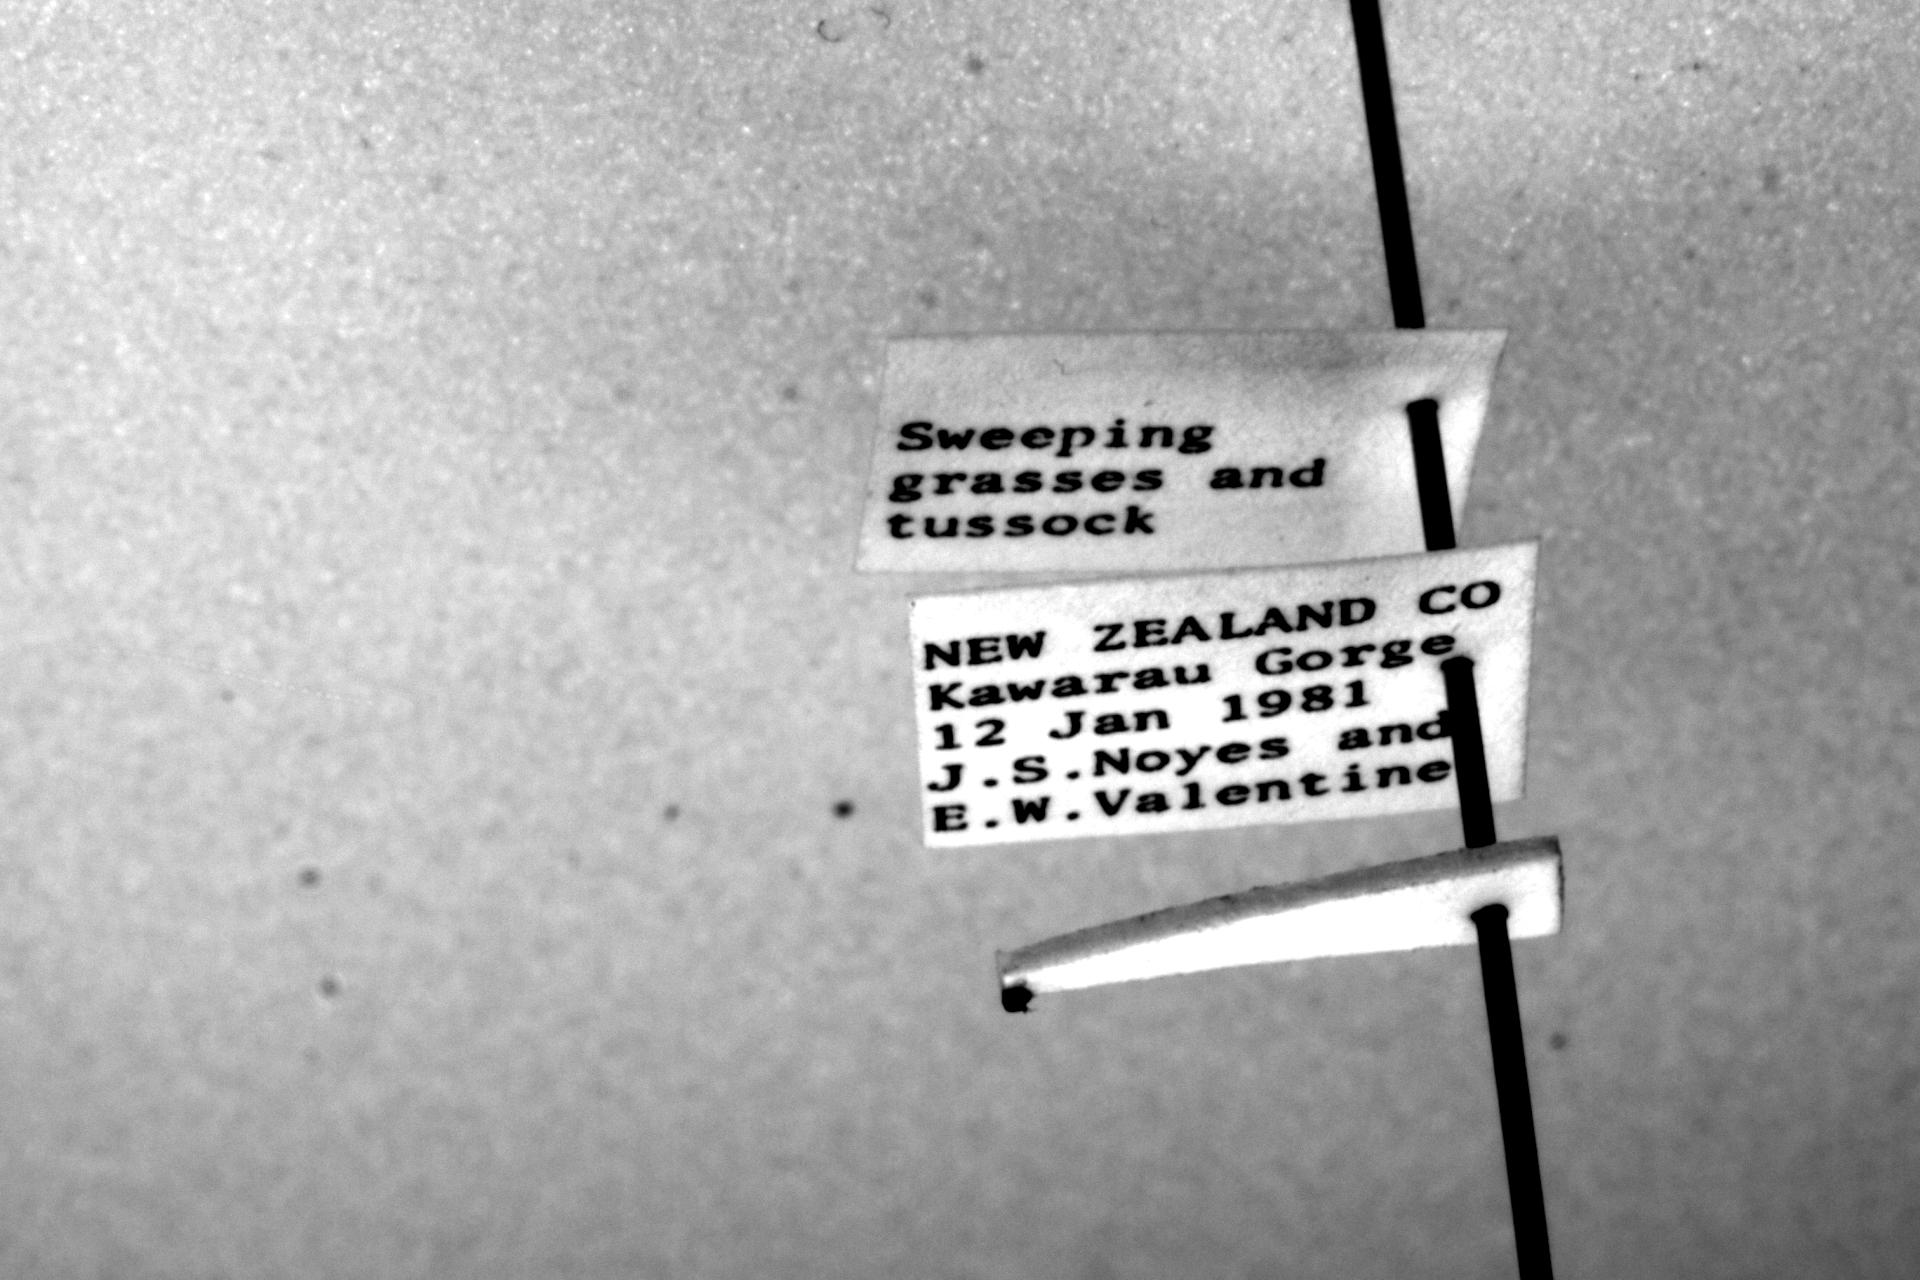typed_label: (911, 544, 1538, 848), (855, 330, 1508, 574)
